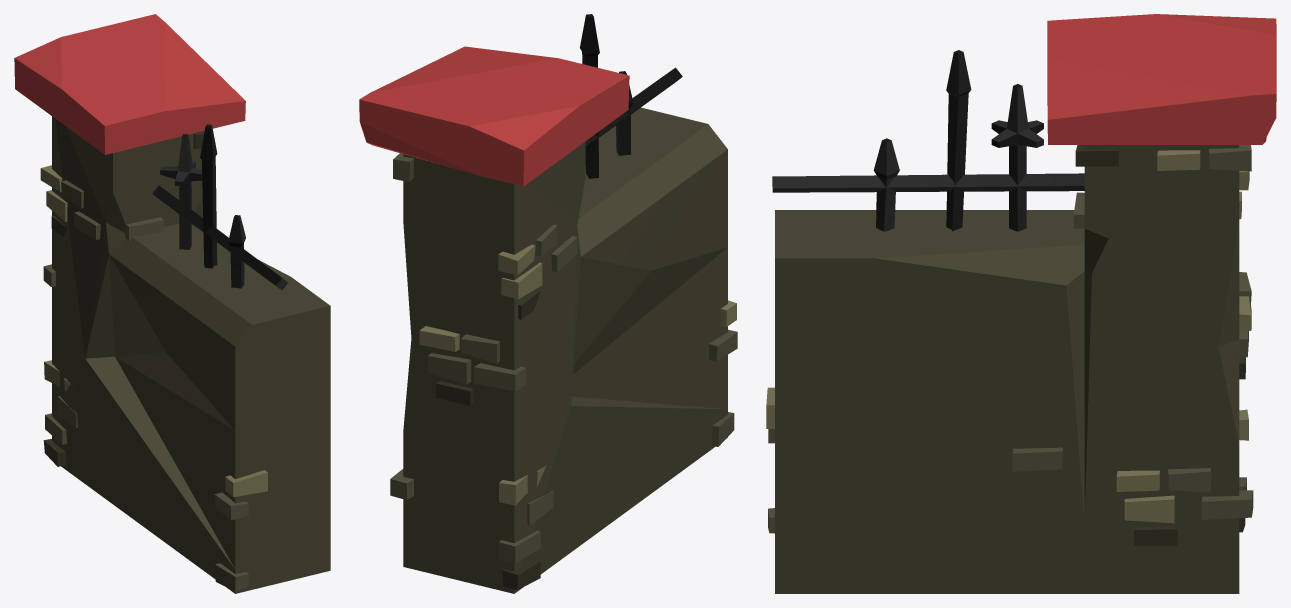
The model's file is ea_arch_wall03_end_01d_pre_6_lev1.glb.
The picture shows the model from 3 angles, left to right: view 1: azimuth 30°, elevation 25°; view 2: azimuth 150°, elevation 25°; view 3: azimuth 270°, elevation 25°; orthographic projection. The views are drawn at different scales.
Parts seen in each view (by area): view 1: ea_arch_wall03_end_01d_pre_6_lev1; view 2: ea_arch_wall03_end_01d_pre_6_lev1; view 3: ea_arch_wall03_end_01d_pre_6_lev1.
Part boxes in pixels (x1,y1,x2,y2): ea_arch_wall03_end_01d_pre_6_lev1: [14, 14, 330, 593]; ea_arch_wall03_end_01d_pre_6_lev1: [359, 14, 737, 593]; ea_arch_wall03_end_01d_pre_6_lev1: [766, 14, 1276, 593].
Size of the model in its own units: 1.07 by 2.93 by 2.63.
Materials: 1 (1 with a texture image).
